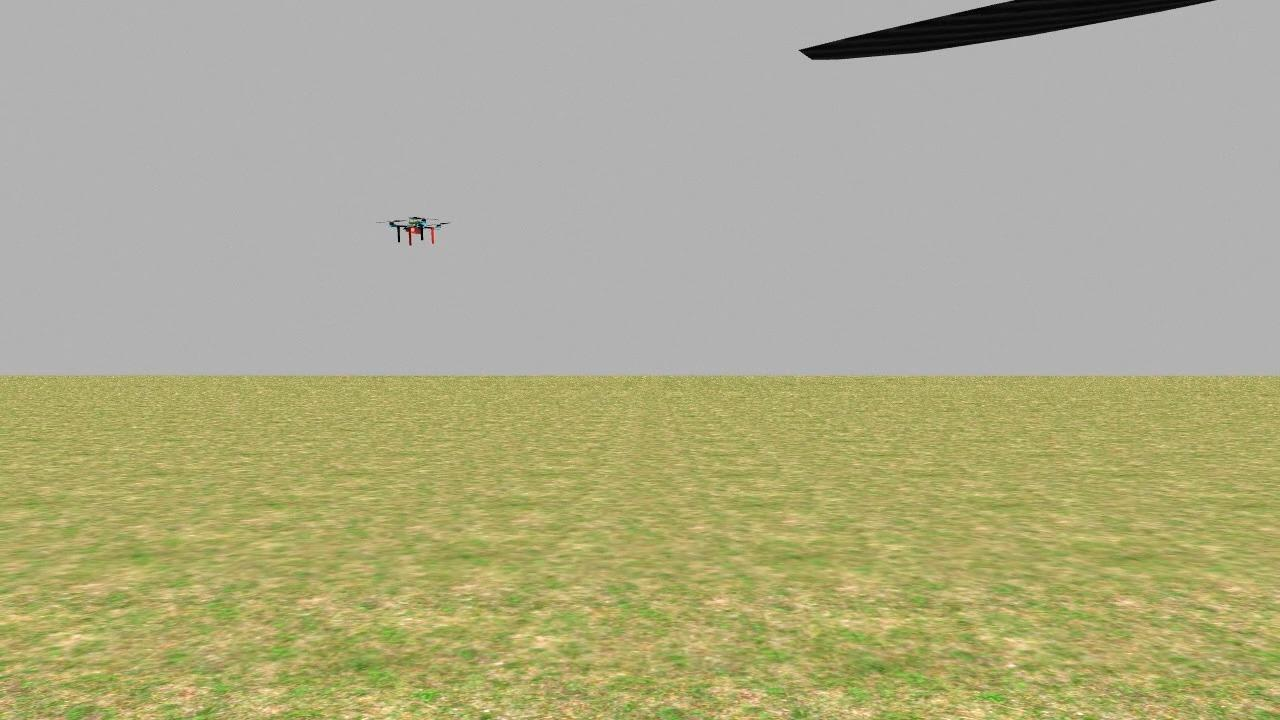UAV: (379, 204, 454, 254)
